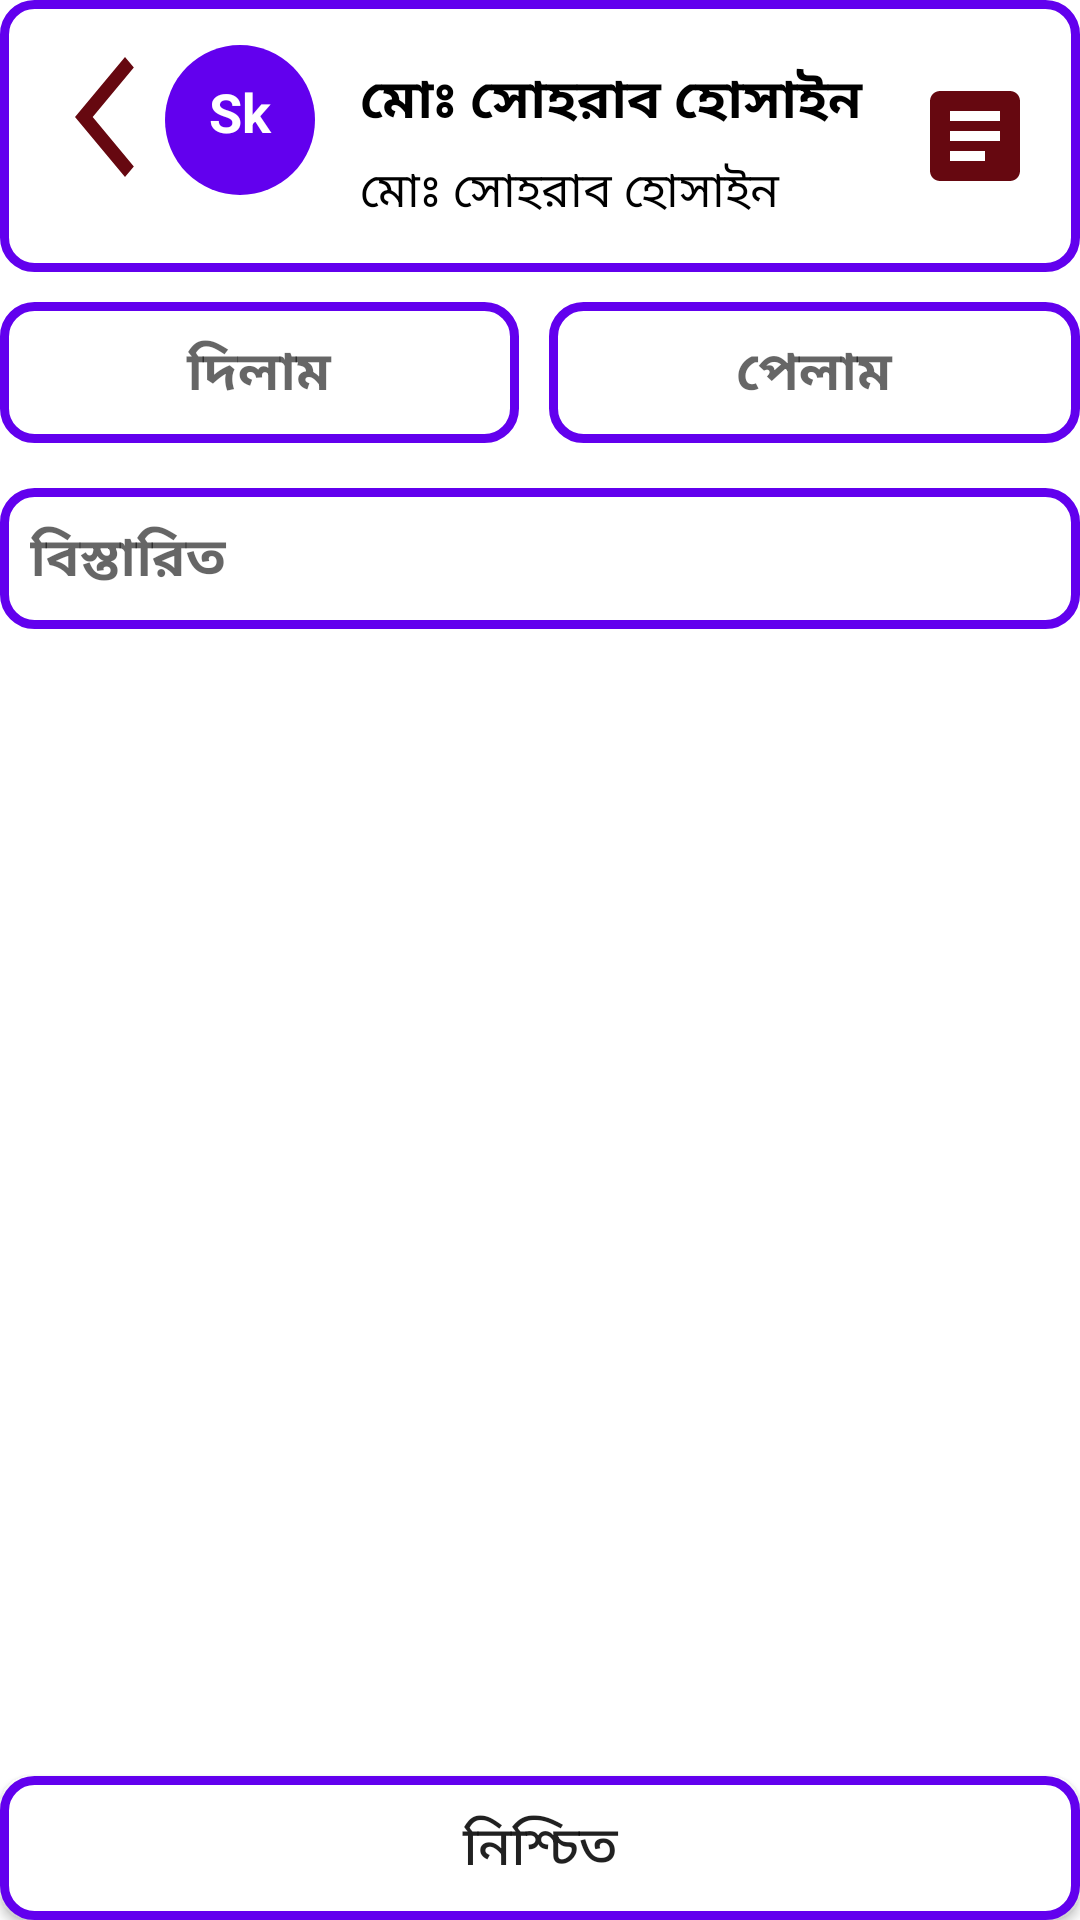

Icon click points for this 1080w x 1920h phone screenshot, format (x,y):
back: (104,117)
details: (975,136)
